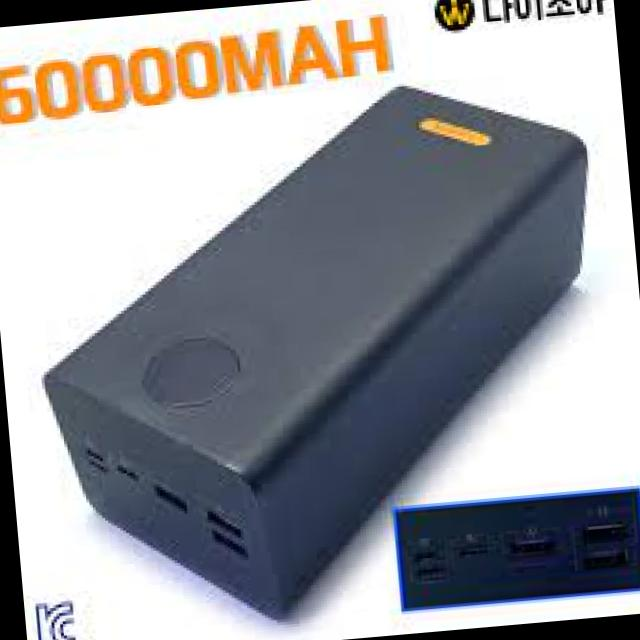portable-charger: (14, 68, 630, 640)
